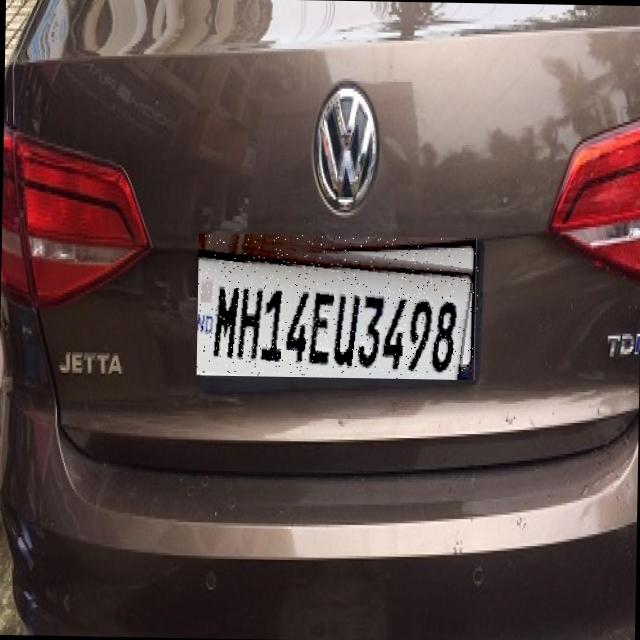Plate: (198, 234, 480, 381)
